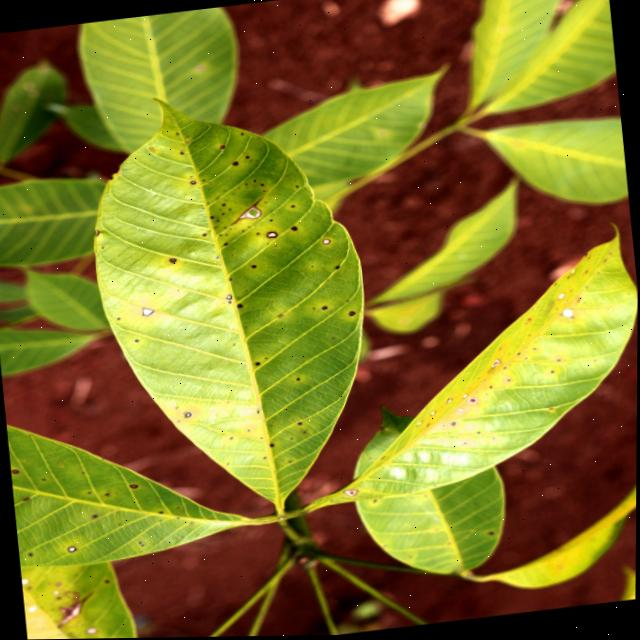Colletotrichum: (267, 231, 278, 238), (322, 237, 331, 244), (68, 545, 77, 552), (169, 257, 176, 263), (130, 483, 138, 488), (226, 293, 232, 299), (185, 412, 191, 417), (190, 179, 196, 184), (232, 160, 238, 165), (349, 311, 355, 316), (322, 305, 328, 310), (13, 468, 19, 473), (220, 143, 225, 148), (237, 303, 243, 307)
